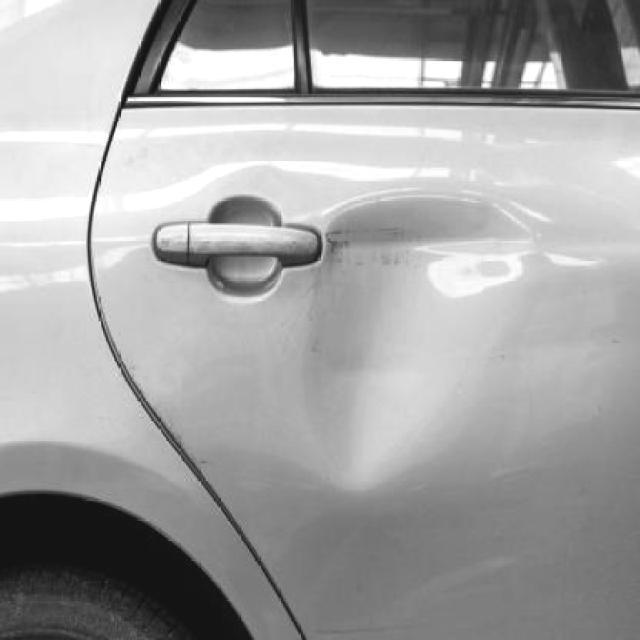minor: (305, 194, 545, 494)
